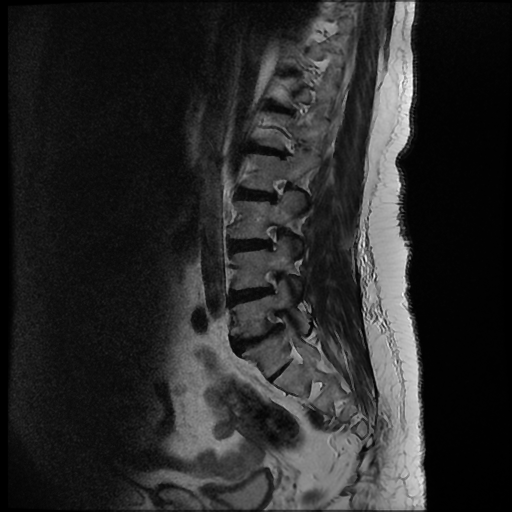RFS0: (257, 216, 286, 258), (264, 170, 290, 214)
RFS2: (256, 262, 291, 302)
